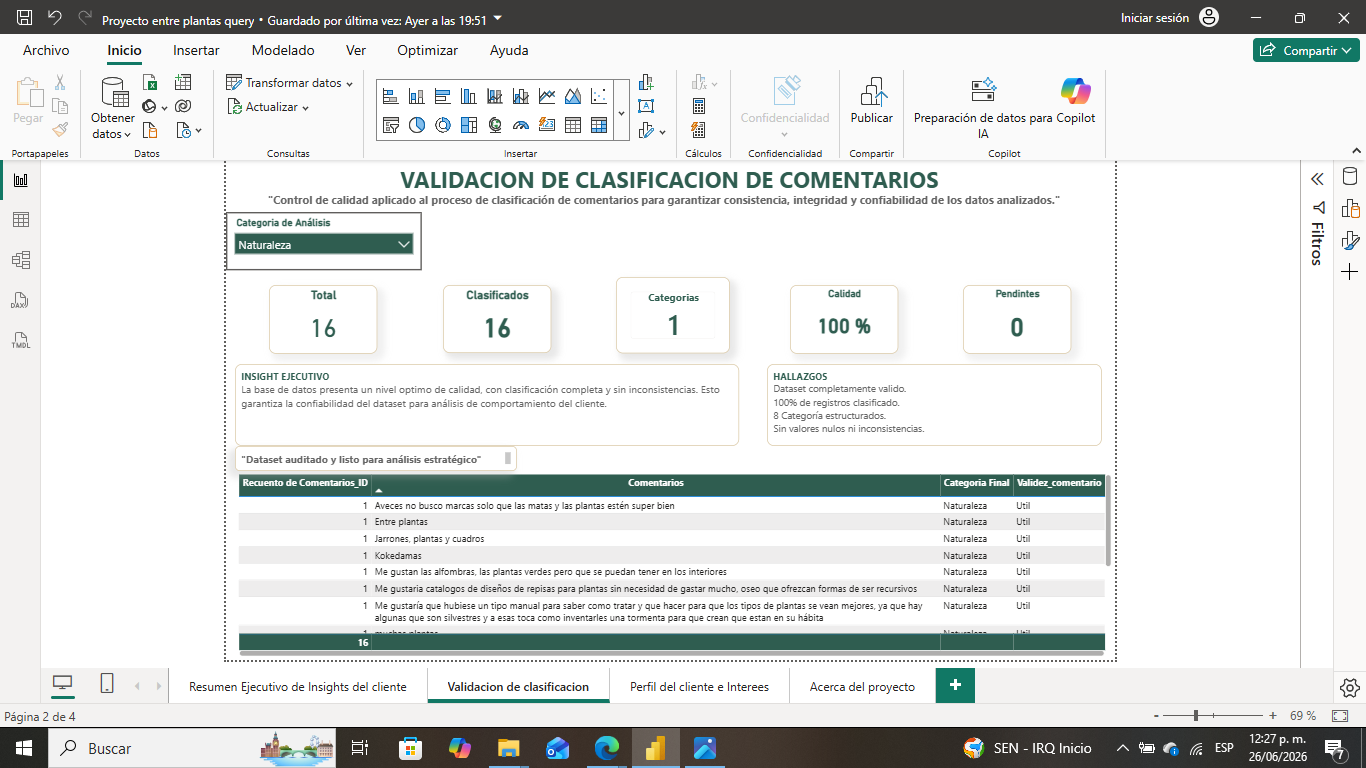

The dashboard page shown, as its layout file describes it:
{"tool":"powerbi","page":{"name":"Validacion de clasificacion ","canvas":[1280,720],"ordinal":1},"visuals":[{"type":"textbox","box":[56.2,0,1165,89.3],"z":0},{"type":"textbox","box":[0,41.8,1261.4,33.1],"z":1000},{"type":"card","title":"Pendintes","fields":{"Values":["Analisis_CombinacionSets.Respuesta Sin Comentarios"]},"box":[1061.3,180,155.5,99.4],"z":2000},{"type":"cardVisual","fields":{"Data":["Analisis_CombinacionSets.Categria Unicas"]},"box":[561.2,168.7,164.2,110.4],"z":3000},{"type":"tableEx","fields":{"Values":["CountNonNull(Analisis_comentarios.Comentarios_ID)","Analisis_comentarios.Comentarios","Analisis_comentarios.Categoria Final","Analisis_comentarios.Validez_comentario"]},"box":[13,447.8,1267.2,272.2],"z":4000},{"type":"slicer","fields":{"Values":["Analisis_comentarios.Categoria Final"]},"box":[0,74.9,282.2,83.5],"z":5000},{"type":"card","title":"Clasificados","fields":{"Values":["Analisis_CombinacionSets.Prueba clasificados"]},"box":[311.8,180.6,155.5,97.9],"z":6000},{"type":"card","title":"Total","fields":{"Values":["Analisis_CombinacionSets.Total_comentarios"]},"box":[61.9,180,155.5,99.4],"z":7000},{"type":"card","title":"Calidad ","fields":{"Values":["Analisis_CombinacionSets.Calidad de la claificacion"]},"box":[811.4,180,155.5,99.4],"z":8000},{"type":"textbox","box":[13,293.8,725.8,118.1],"z":9000},{"type":"textbox","box":[779,293.8,482.4,118.1],"z":10000},{"type":"textbox","box":[13,411.8,406.1,36],"z":11000}]}

Visuals, with their boxes on the page's 1280x720 design canvas (x1, y1, x2, y2). These are canvas units, not pixel positions in the 1366x768 screenshot, which may show the page scaled, cropped or inside an application window:
textbox: 56 0 1221 89
textbox: 0 42 1261 75
"Pendintes" card: 1061 180 1217 279
cardVisual - Analisis_CombinacionSets.Categria Unicas: 561 169 725 279
tableEx - CountNonNull(Analisis_comentarios.Comentarios_ID) x Analisis_comentarios.Comentarios: 13 448 1280 720
slicer - Analisis_comentarios.Categoria Final: 0 75 282 158
"Clasificados" card: 312 181 467 278
"Total" card: 62 180 217 279
"Calidad " card: 811 180 967 279
textbox: 13 294 739 412
textbox: 779 294 1261 412
textbox: 13 412 419 448
